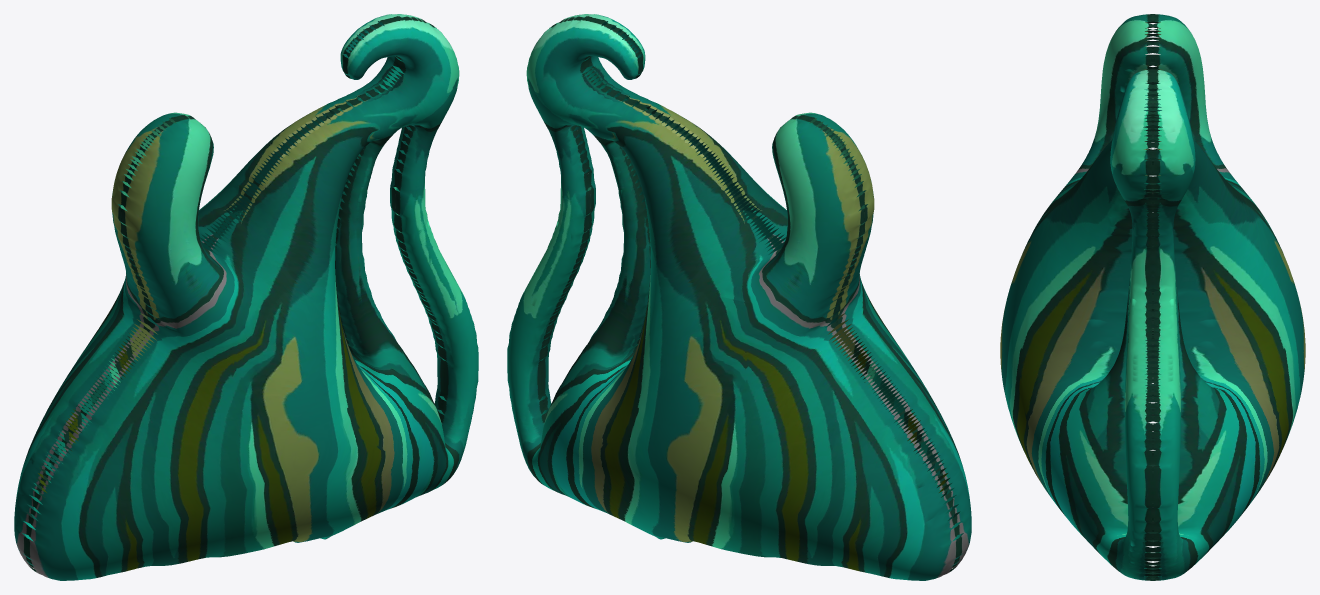
Rendered from root_vines.glb.
3 renders of one model, left to right at view 1: azimuth 30°, elevation 25°; view 2: azimuth 150°, elevation 25°; view 3: azimuth 270°, elevation 25°, orthographic. The views are drawn at different scales.
Parts seen in each view (by area): view 1: root_vines; view 2: root_vines; view 3: root_vines.
Part boxes in pixels (<box>): root_vines: <box>14,14,478,580</box>; root_vines: <box>507,14,971,580</box>; root_vines: <box>1000,14,1305,580</box>.
Size of the model in its own units: 0.9886 by 1.02 by 0.5673.
1 material, 1 textured.
